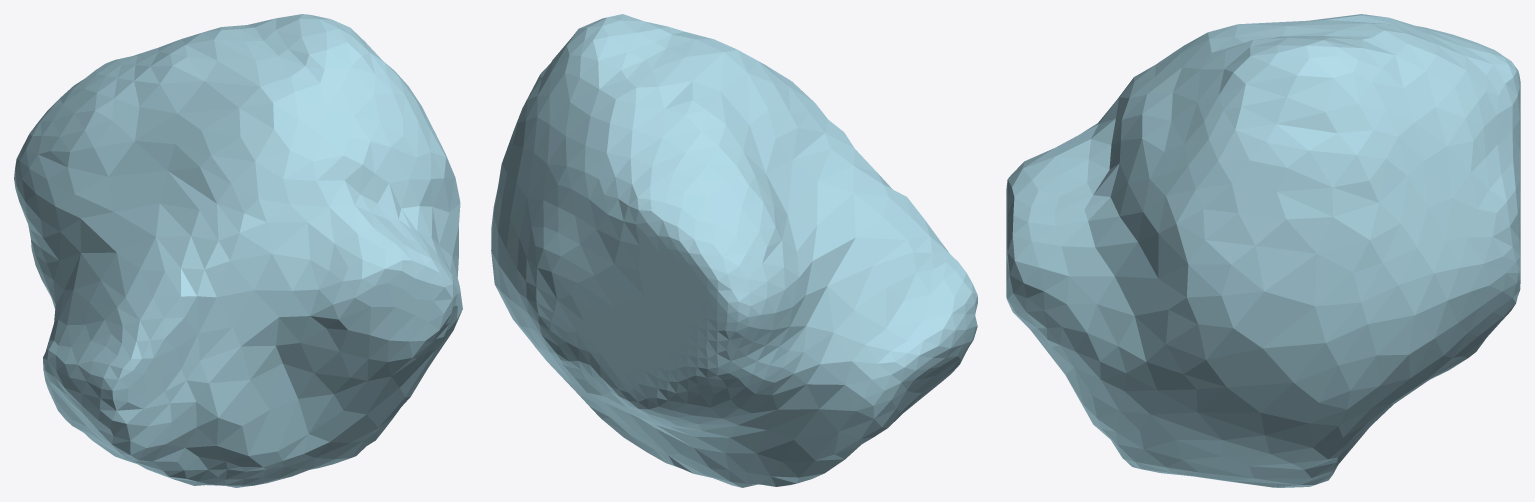
Rendered from livertumor03.obj.
3 renders of one model, left to right at view 1: azimuth 30°, elevation 25°; view 2: azimuth 150°, elevation 25°; view 3: azimuth 270°, elevation 25°, orthographic. The views are drawn at different scales.
Visible parts, largest first — view 1: grp1; view 2: grp1; view 3: grp1.
Boxes of the visible parts, left/top/right/bottom form: grp1: left=14, top=14, right=462, bottom=487; grp1: left=491, top=14, right=977, bottom=487; grp1: left=1006, top=14, right=1520, bottom=487.
Size of the model in its own units: 23.55 by 23.22 by 22.4.
